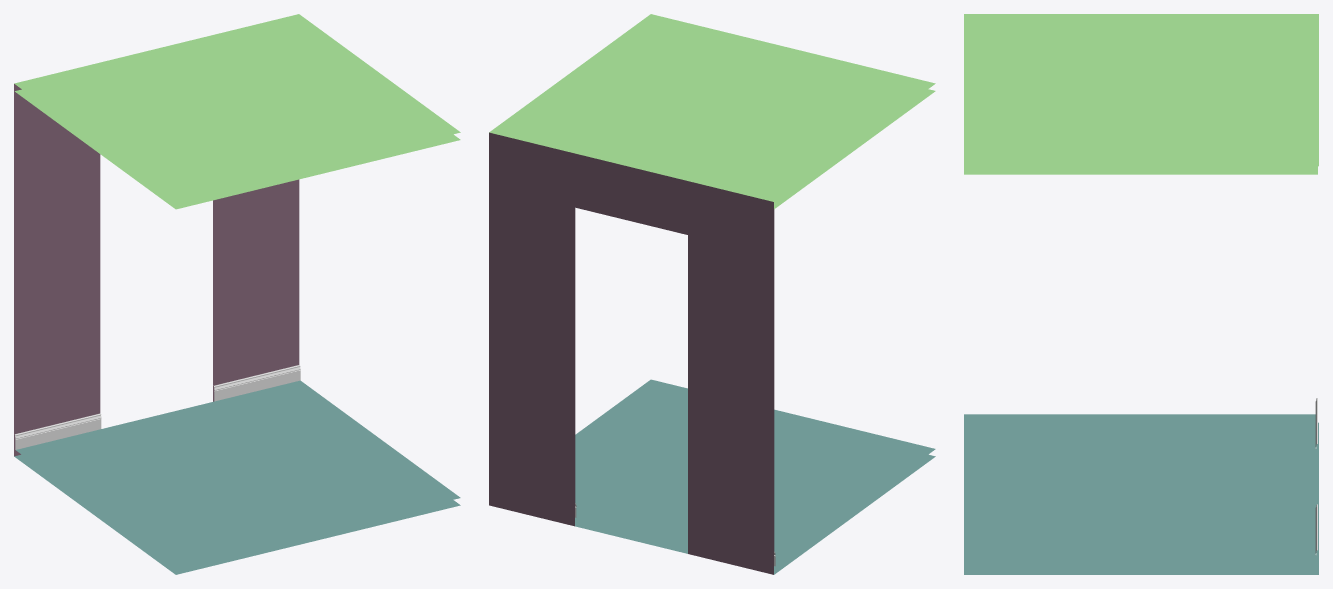
Rendered from Wall_2x2_door_hole.fbx.
3 renders of one model, left to right at view 1: azimuth 30°, elevation 25°; view 2: azimuth 150°, elevation 25°; view 3: azimuth 270°, elevation 25°, orthographic. The views are drawn at different scales.
Parts seen in each view (by area): view 1: Wall_2x2_door_hole; view 2: Wall_2x2_door_hole; view 3: Wall_2x2_door_hole.
Boxes of the visible parts, x1,y1,x2,y2 form: Wall_2x2_door_hole: (14,14,460,574); Wall_2x2_door_hole: (489,14,935,574); Wall_2x2_door_hole: (964,14,1318,574).
Size of the model in its own units: 2 by 2.5 by 1.97.
